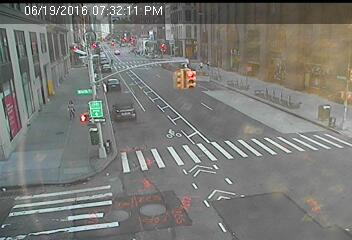neg: (23, 54, 42, 80), (58, 152, 77, 178), (269, 76, 285, 97), (25, 104, 40, 124), (107, 155, 121, 174), (160, 115, 174, 133), (303, 40, 317, 58), (146, 159, 160, 177), (208, 161, 222, 179), (265, 161, 279, 179), (238, 27, 250, 43), (168, 18, 179, 34), (220, 115, 231, 129), (122, 19, 132, 32), (55, 32, 64, 44)
pos: (63, 98, 79, 120), (198, 61, 204, 70), (206, 59, 212, 68)
